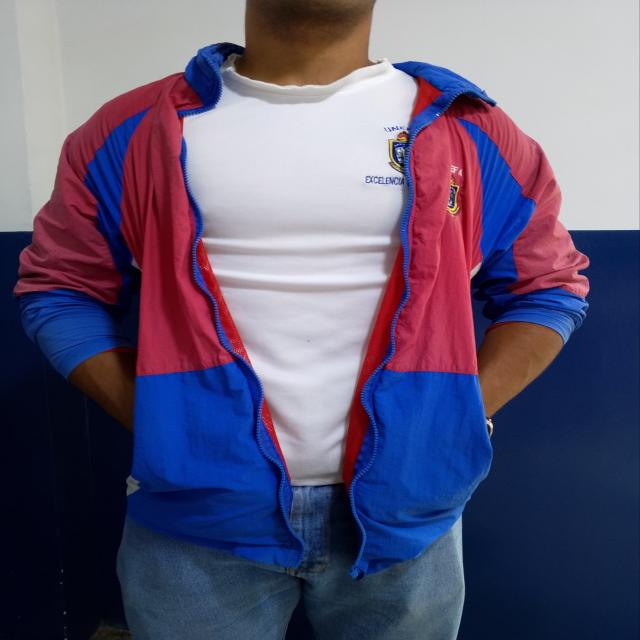chaqueta_unefa: (12, 41, 591, 581)
